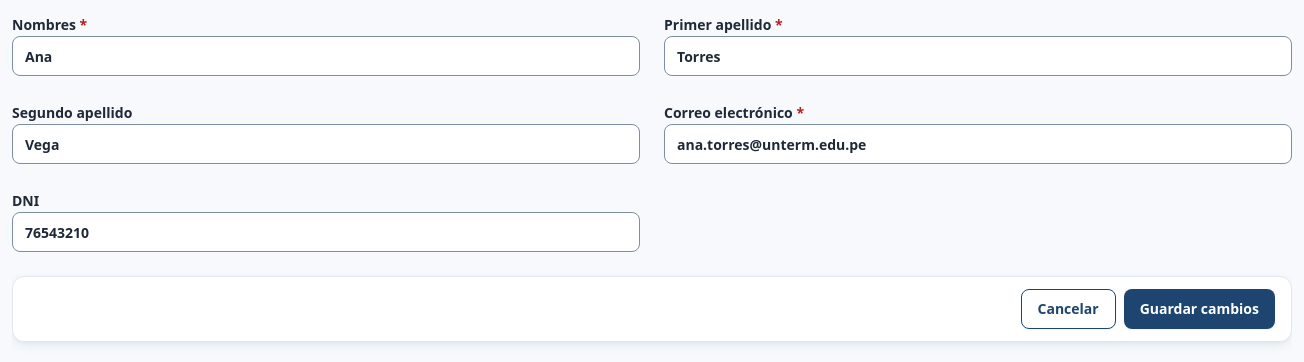
Test: UserForm component (T-003-27) › loads the user and sends only the changed fields in edit mode
This screenshot has width=1304, height=362.
Note: Cambiamos solo el nombre
Replace the text in the field labelled "Nombres *" with "Ana María". click: x=326, y=56
box: [12,36,640,76]
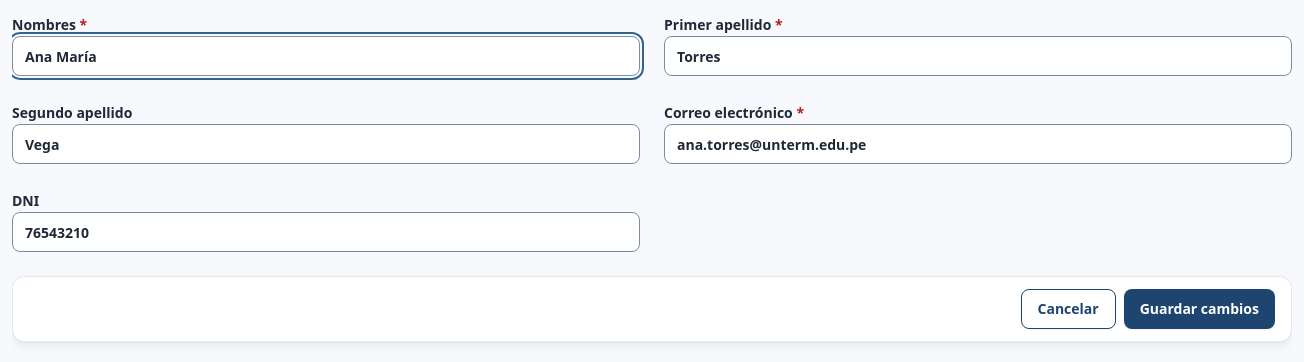
Click the button "Guardar cambios". click: x=1199, y=309
box: [1124,289,1275,329]
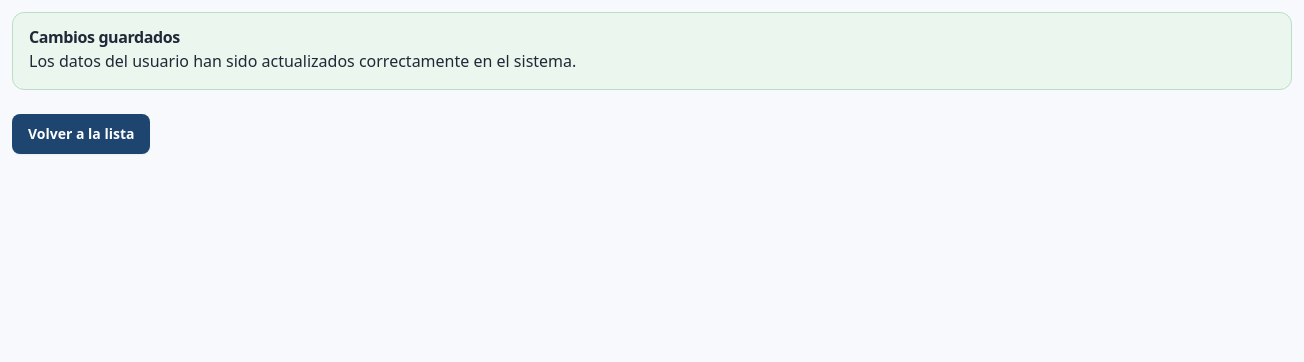
expect the heading "Cambios guardados" is shown: met, box [29,26,180,48]
